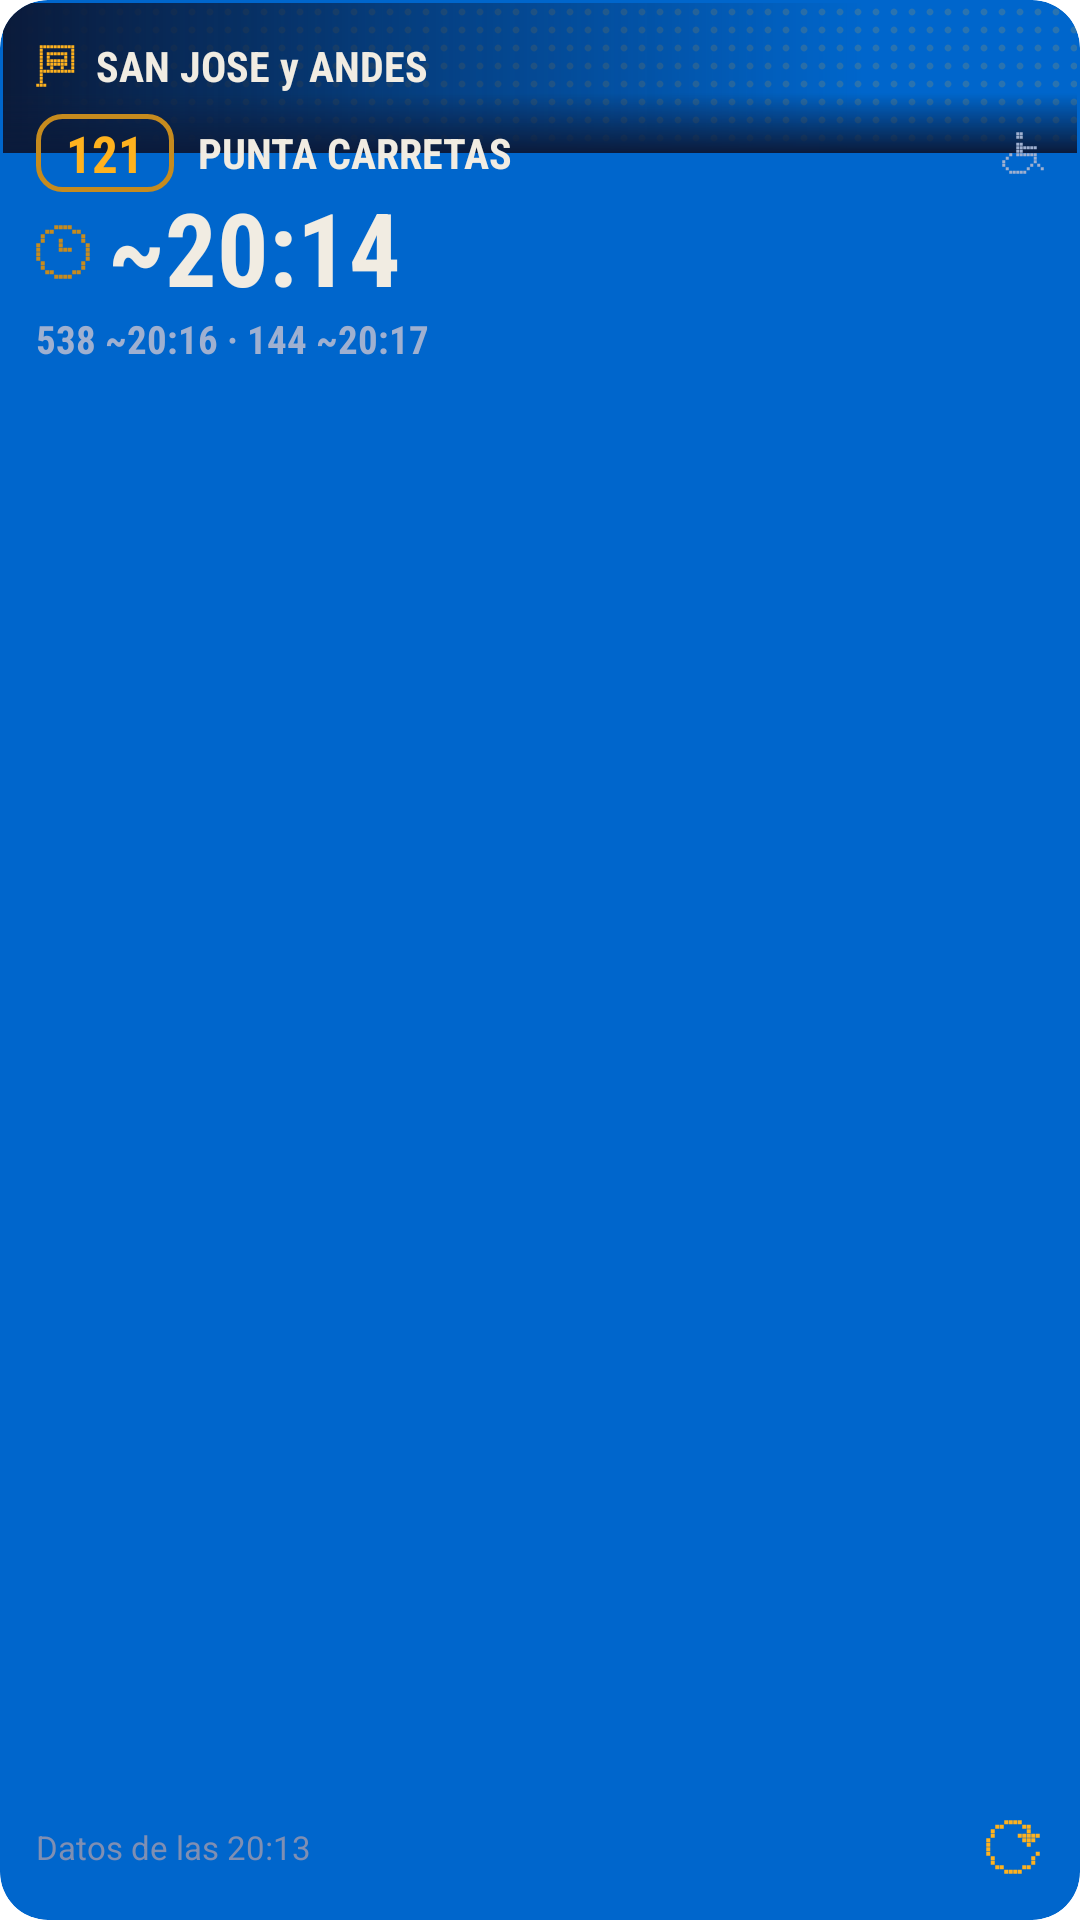

Where to tap for icons on this 1080 × 1920 app screen, as (x,y):
widget accessible: (1023,153)
widget clock dim: (63,252)
